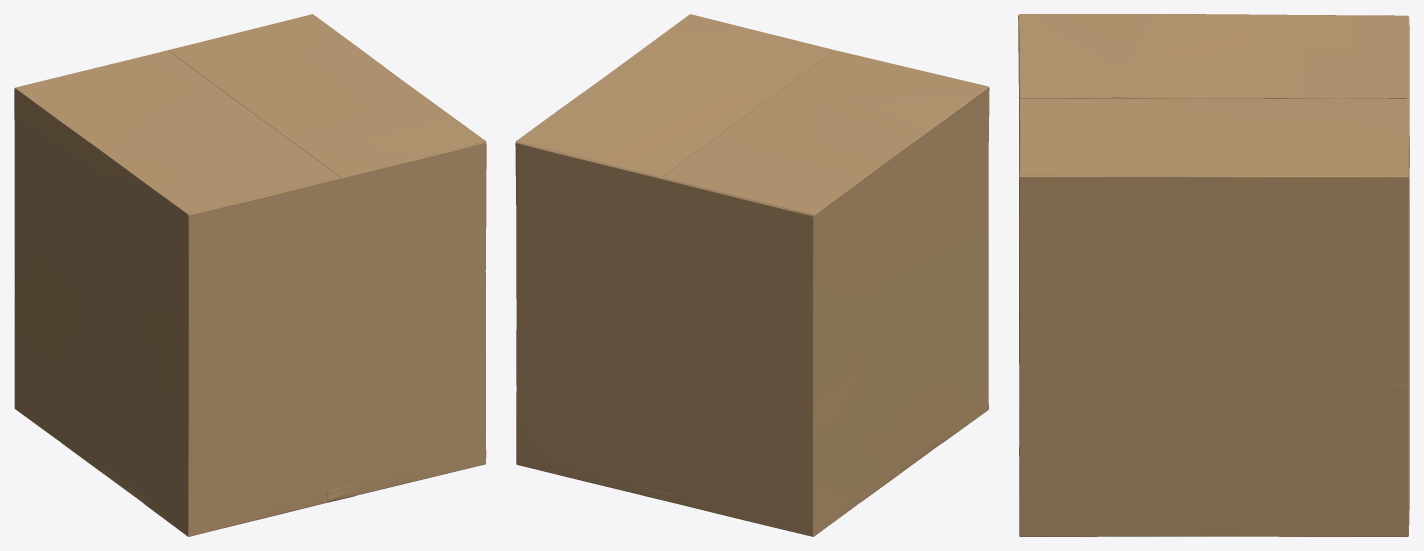
The model's file is box_corrugated_white_a10.glb.
3 views of the same model, side by side, from view 1: azimuth 30°, elevation 25°; view 2: azimuth 150°, elevation 25°; view 3: azimuth 270°, elevation 25° (orthographic). The views are drawn at different scales.
Size of the model in its own units: 0.4031 by 0.4168 by 0.4092.
